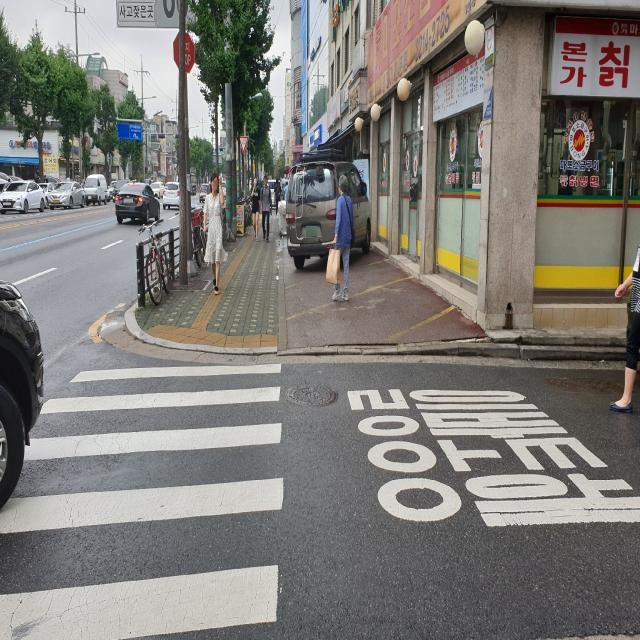횡단보도: (0, 359, 284, 640)
